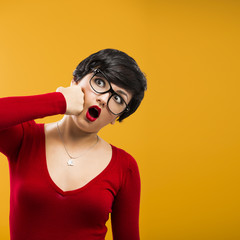teen: (66, 48, 134, 144)
